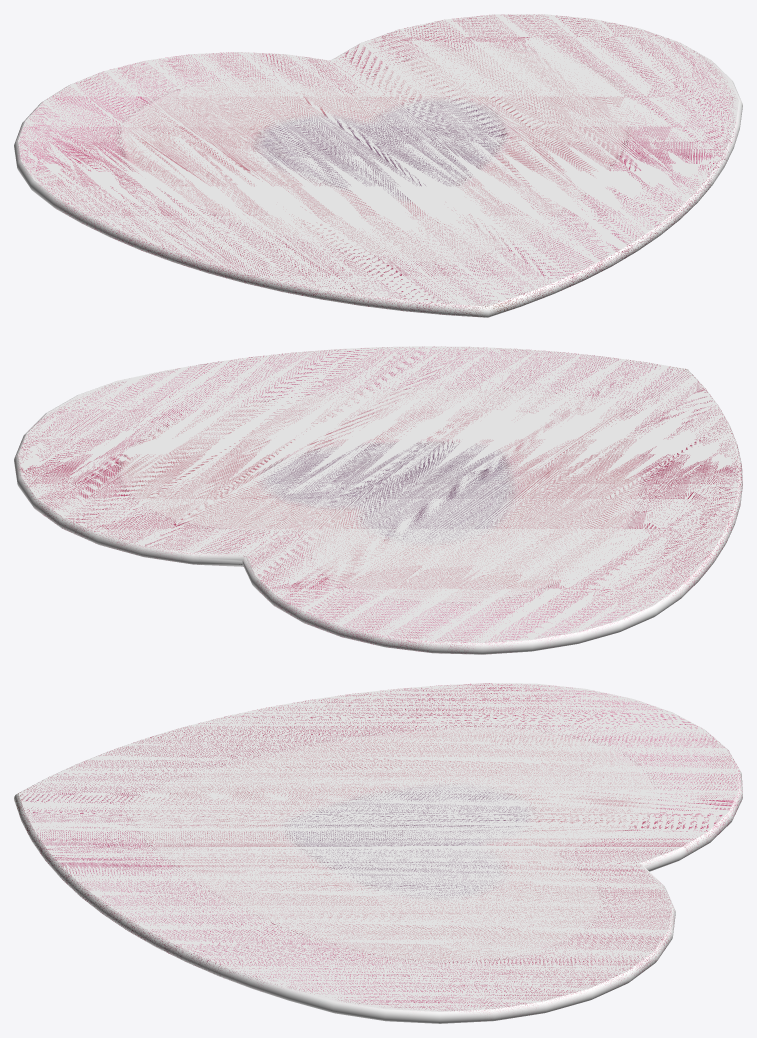
File: hearth_rug.dae
3 renders of one model, top to bottom at view 1: azimuth 30°, elevation 25°; view 2: azimuth 150°, elevation 25°; view 3: azimuth 270°, elevation 25°, orthographic. The views are drawn at different scales.
Parts seen in each view (by area): view 1: skp2E66; view 2: skp2E66; view 3: skp2E66.
Part boxes in pixels (x1,y1,x2,y2): skp2E66: [14, 14, 742, 317]; skp2E66: [14, 346, 742, 654]; skp2E66: [14, 683, 742, 1023].
Size of the model in its own units: 65.64 by 60.83 by 1.1.
Materials: 3 (2 with a texture image).
